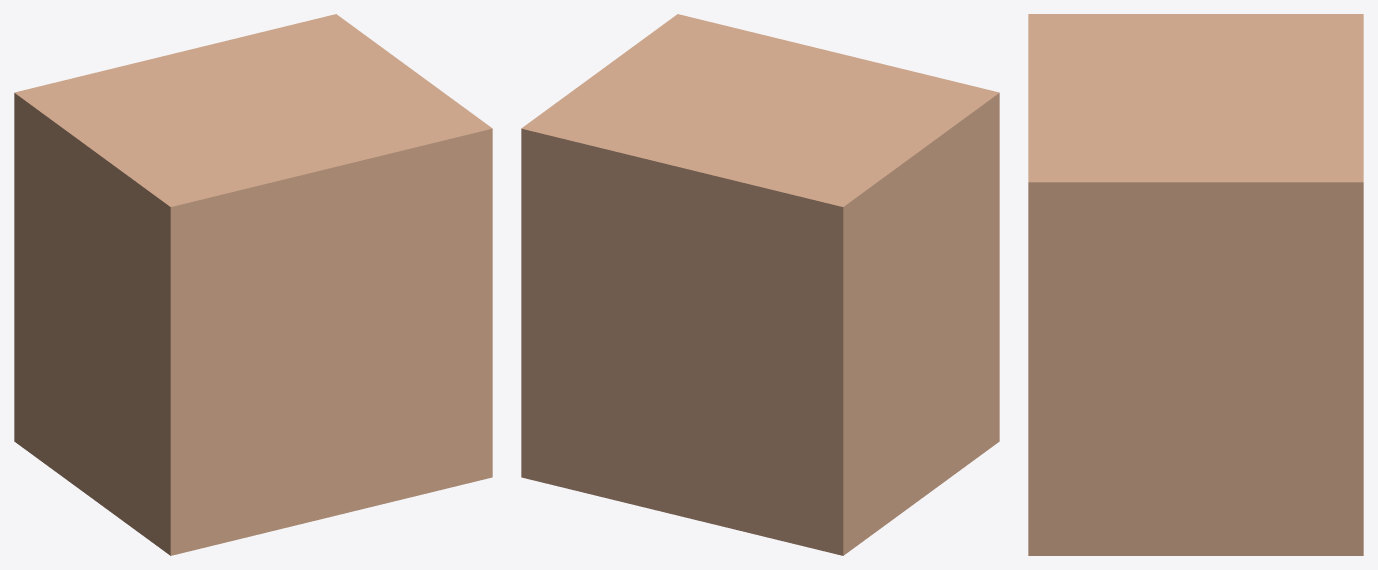
The model's file is deadbush.dae.
The picture shows the model from 3 angles, left to right: view 1: azimuth 30°, elevation 25°; view 2: azimuth 150°, elevation 25°; view 3: azimuth 270°, elevation 25°; orthographic projection. The views are drawn at different scales.
Visible parts, largest first — view 1: bounds; view 2: bounds; view 3: bounds.
Boxes of the visible parts, x1=… form: bounds: x1=14, y1=14, x2=492, y2=555; bounds: x1=521, y1=14, x2=999, y2=555; bounds: x1=1028, y1=14, x2=1363, y2=555.
Bounding box in the file's own units: 3.13 × 2.64 × 3.54.
